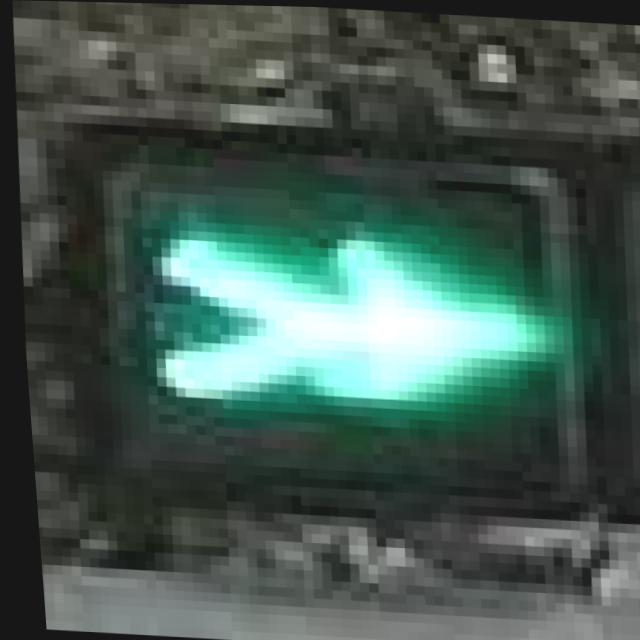green_light: (124, 144, 581, 490)
